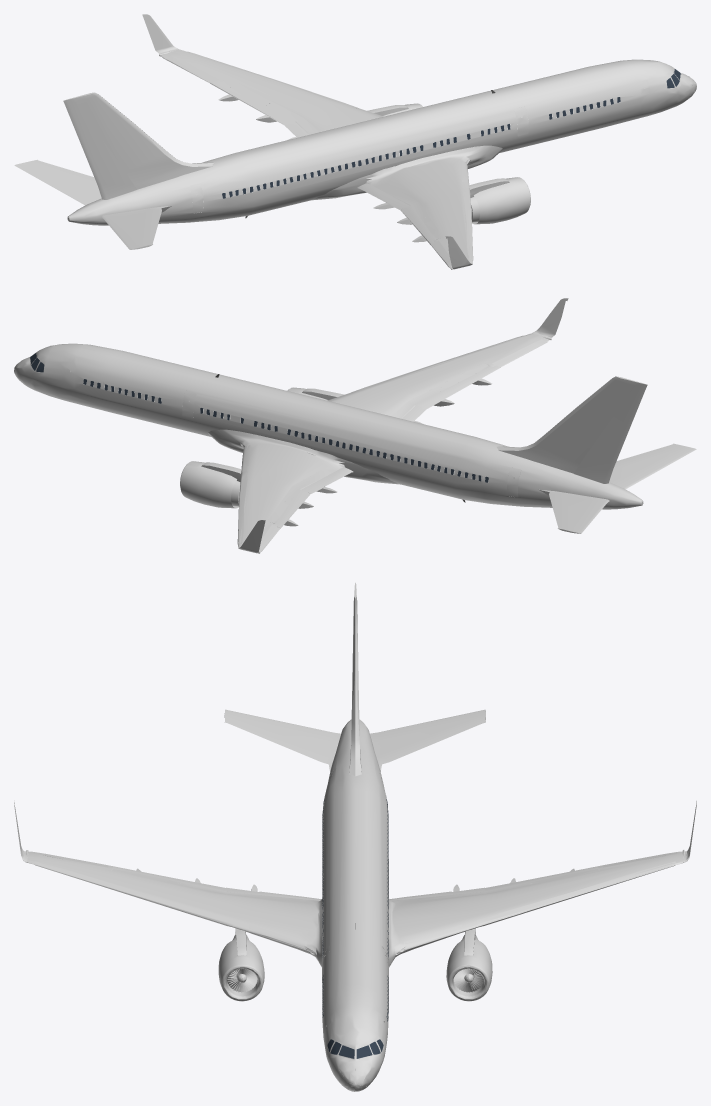
3 renders of one model, top to bottom at view 1: azimuth 30°, elevation 25°; view 2: azimuth 150°, elevation 25°; view 3: azimuth 270°, elevation 25°, orthographic. The views are drawn at different scales.
Parts seen in each view (by area): view 1: body, glass; view 2: body, glass; view 3: body, glass.
Boxes of the visible parts, <box> form: body: <box>14,14,696,269</box>; glass: <box>222,69,680,198</box>; body: <box>14,298,696,553</box>; glass: <box>30,353,488,482</box>; body: <box>14,582,696,1091</box>; glass: <box>322,799,388,1058</box>.
Bounding box in the file's own units: 2.2 × 0.5876 × 1.83.
